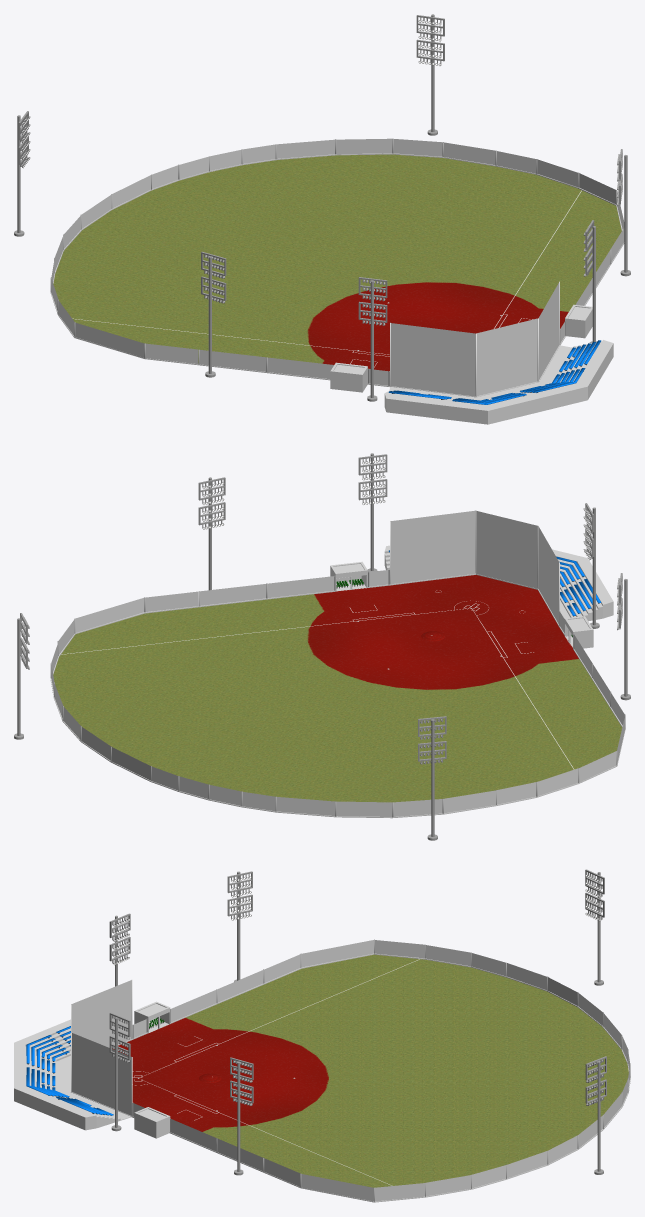
Rendered from Baseball Field.fbx.
The picture shows the model from 3 angles, top to bottom: view 1: azimuth 30°, elevation 25°; view 2: azimuth 150°, elevation 25°; view 3: azimuth 270°, elevation 25°; orthographic projection. The views are drawn at different scales.
Parts seen in each view (by area): view 1: ground, net, around, light, bench, pole, third bench, first bench; view 2: ground, net, light, around, pole, first bench, bench, Line, third bench; view 3: ground, net, around, light, bench, first bench, pole, third bench, Line.
Part boxes in pixels (x1,y1,x2,y2): ground: [53, 154, 621, 371]; net: [51, 138, 624, 396]; around: [50, 153, 624, 424]; light: [14, 14, 630, 401]; bench: [388, 340, 601, 404]; pole: [50, 138, 617, 396]; third bench: [330, 362, 367, 392]; first bench: [565, 304, 592, 338]; ground: [53, 575, 622, 802]; net: [51, 510, 625, 816]; light: [14, 453, 630, 840]; around: [50, 545, 625, 818]; pole: [50, 510, 625, 817]; first bench: [330, 561, 367, 591]; bench: [389, 550, 601, 616]; Line: [61, 590, 574, 769]; third bench: [564, 616, 593, 649]; ground: [112, 954, 628, 1187]; net: [72, 940, 630, 1201]; around: [14, 953, 630, 1202]; light: [109, 869, 606, 1175]; bench: [26, 1026, 113, 1115]; first bench: [134, 1107, 170, 1138]; pole: [71, 939, 630, 1201]; third bench: [134, 1001, 170, 1033]; Line: [133, 959, 419, 1185].
Bounding box in the file's own units: 1752 × 366 × 1839.
10 materials, 1 textured.
